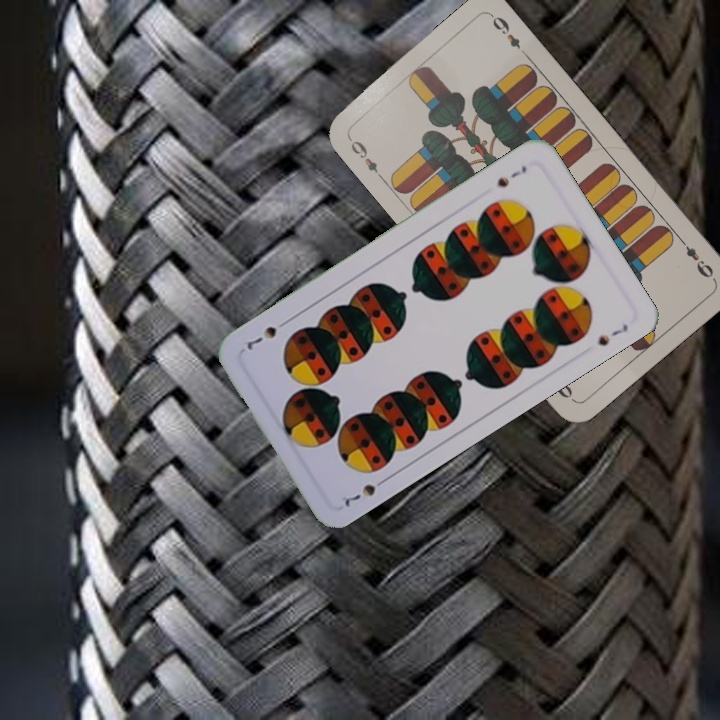E9: (674, 233, 717, 281), (344, 133, 386, 182)
S7: (340, 473, 391, 510), (492, 161, 529, 190)
